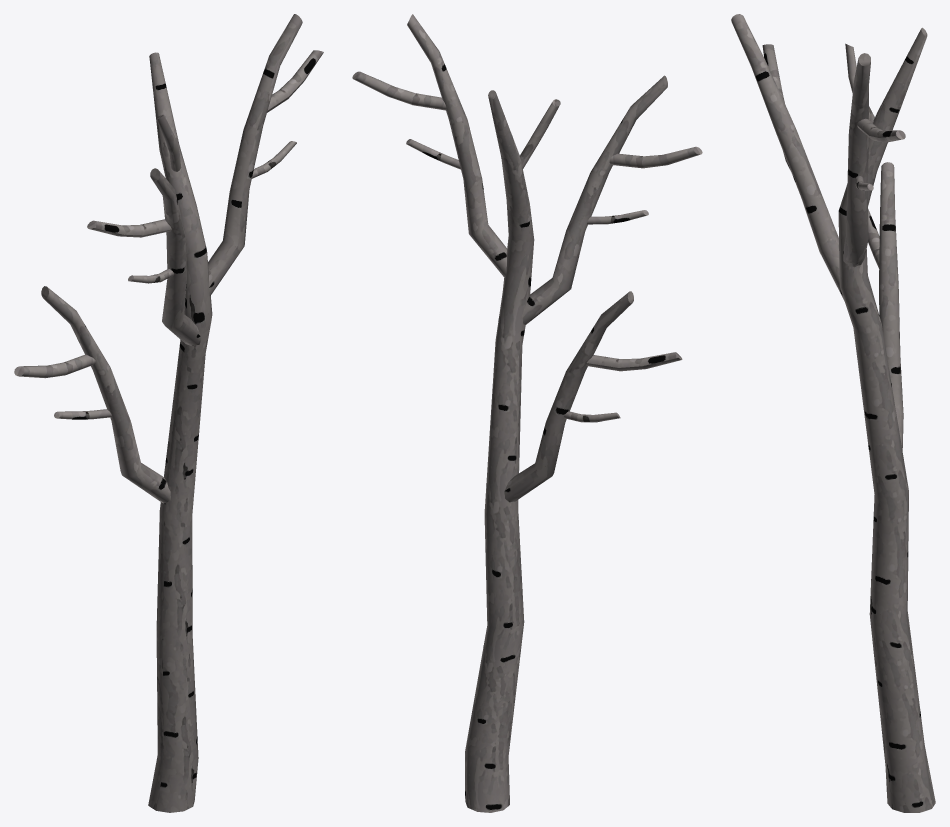
The model's file is deadbirch_4.glb.
3 renders of one model, left to right at view 1: azimuth 30°, elevation 25°; view 2: azimuth 150°, elevation 25°; view 3: azimuth 270°, elevation 25°, orthographic. The views are drawn at different scales.
Parts seen in each view (by area): view 1: DeadBirch_4; view 2: DeadBirch_4; view 3: DeadBirch_4.
Boxes of the visible parts, box(x1,y1,x2,y2) form: DeadBirch_4: box(14, 14, 323, 812); DeadBirch_4: box(352, 14, 702, 812); DeadBirch_4: box(731, 14, 935, 812).
Bounding box in the file's own units: 4.21 × 9.64 × 2.23.
1 material, 1 textured.
